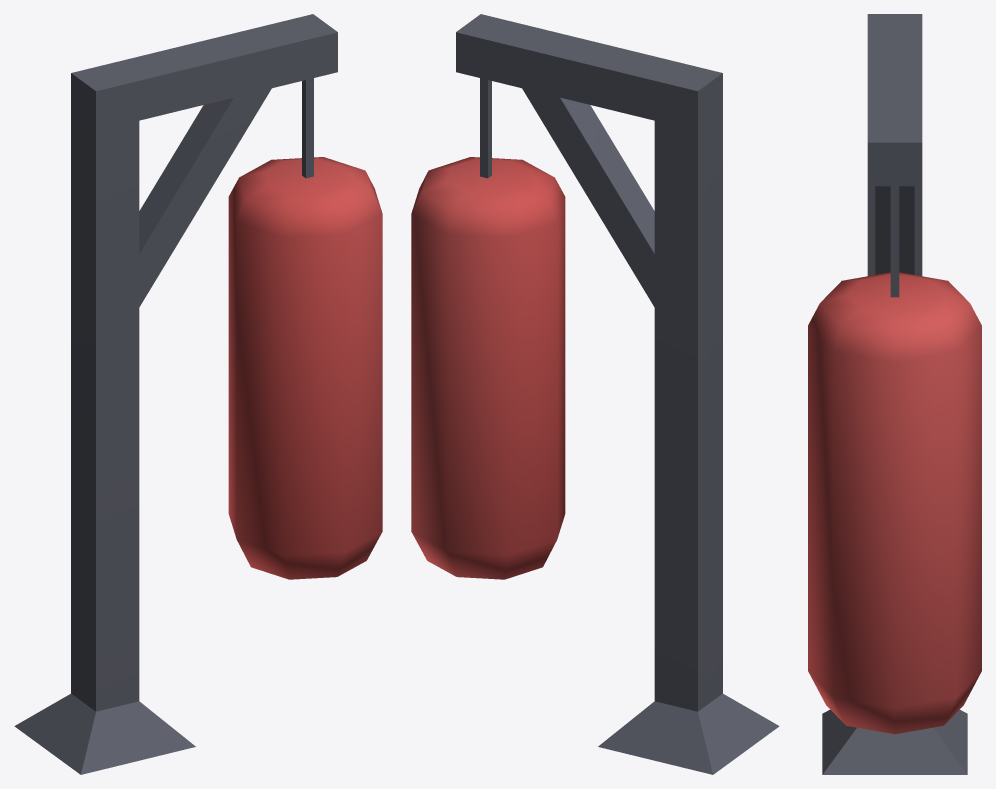
The model's file is PunchingBag.fbx.
The picture shows the model from 3 angles, left to right: view 1: azimuth 30°, elevation 25°; view 2: azimuth 150°, elevation 25°; view 3: azimuth 270°, elevation 25°; orthographic projection. The views are drawn at different scales.
Parts seen in each view (by area): view 1: PunchingBag; view 2: PunchingBag; view 3: PunchingBag.
Part boxes in pixels (x1=…): PunchingBag: x1=14, y1=14, x2=382, y2=774; PunchingBag: x1=411, y1=14, x2=779, y2=774; PunchingBag: x1=808, y1=14, x2=981, y2=774.
Size of the model in its own units: 107 by 207 by 45.28.
